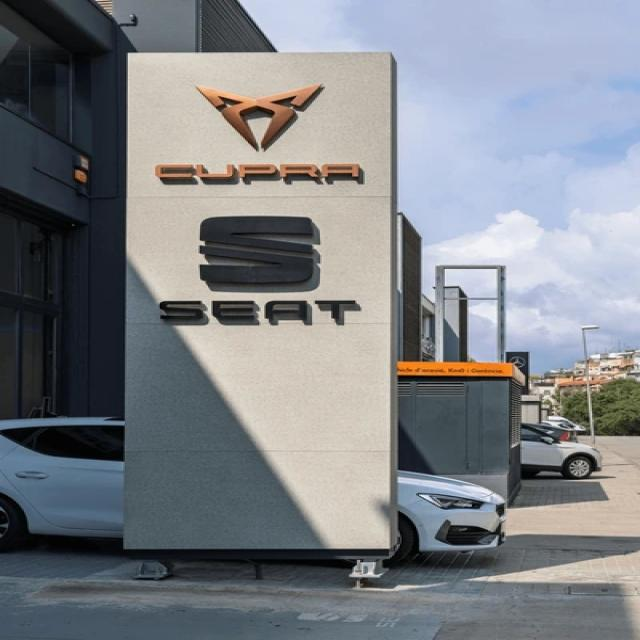cupra: (194, 77, 330, 149)
seat: (197, 209, 325, 292)
